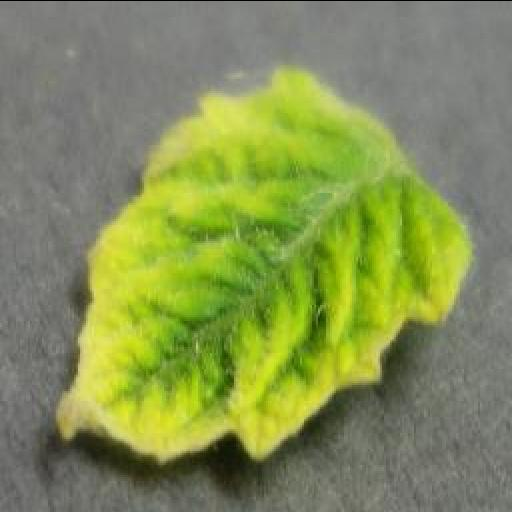disease_tomato: (56, 66, 470, 464)
